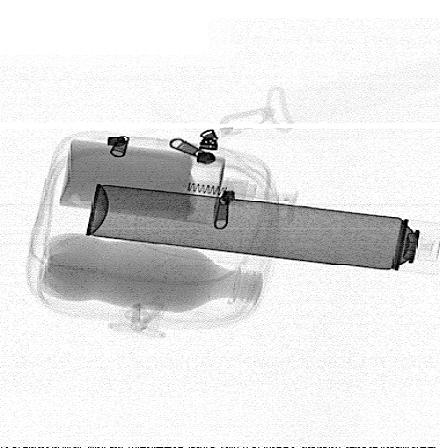Sprayer: (85, 182, 439, 275)
